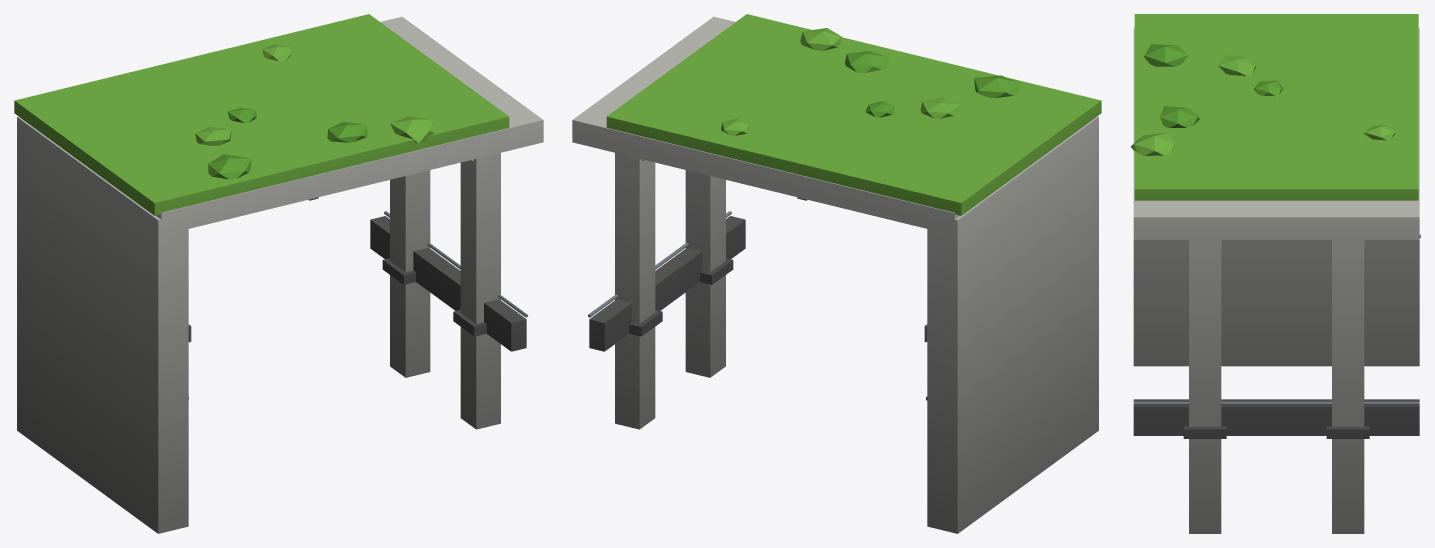
Rendered from Gallery_Module.fbx.
3 views of the same model, side by side, from view 1: azimuth 30°, elevation 25°; view 2: azimuth 150°, elevation 25°; view 3: azimuth 270°, elevation 25° (orthographic).
Parts seen in each view (by area): view 1: Gallery_Module_LOD0; view 2: Gallery_Module_LOD0; view 3: Gallery_Module_LOD0.
Part boxes in pixels (x1,y1,x2,y2): Gallery_Module_LOD0: [14, 14, 543, 533]; Gallery_Module_LOD0: [572, 14, 1101, 533]; Gallery_Module_LOD0: [1130, 14, 1420, 533].
Size of what is drawn, in the model's own units: 12.7 by 10.71 by 8.11.
1 material, 1 textured.
